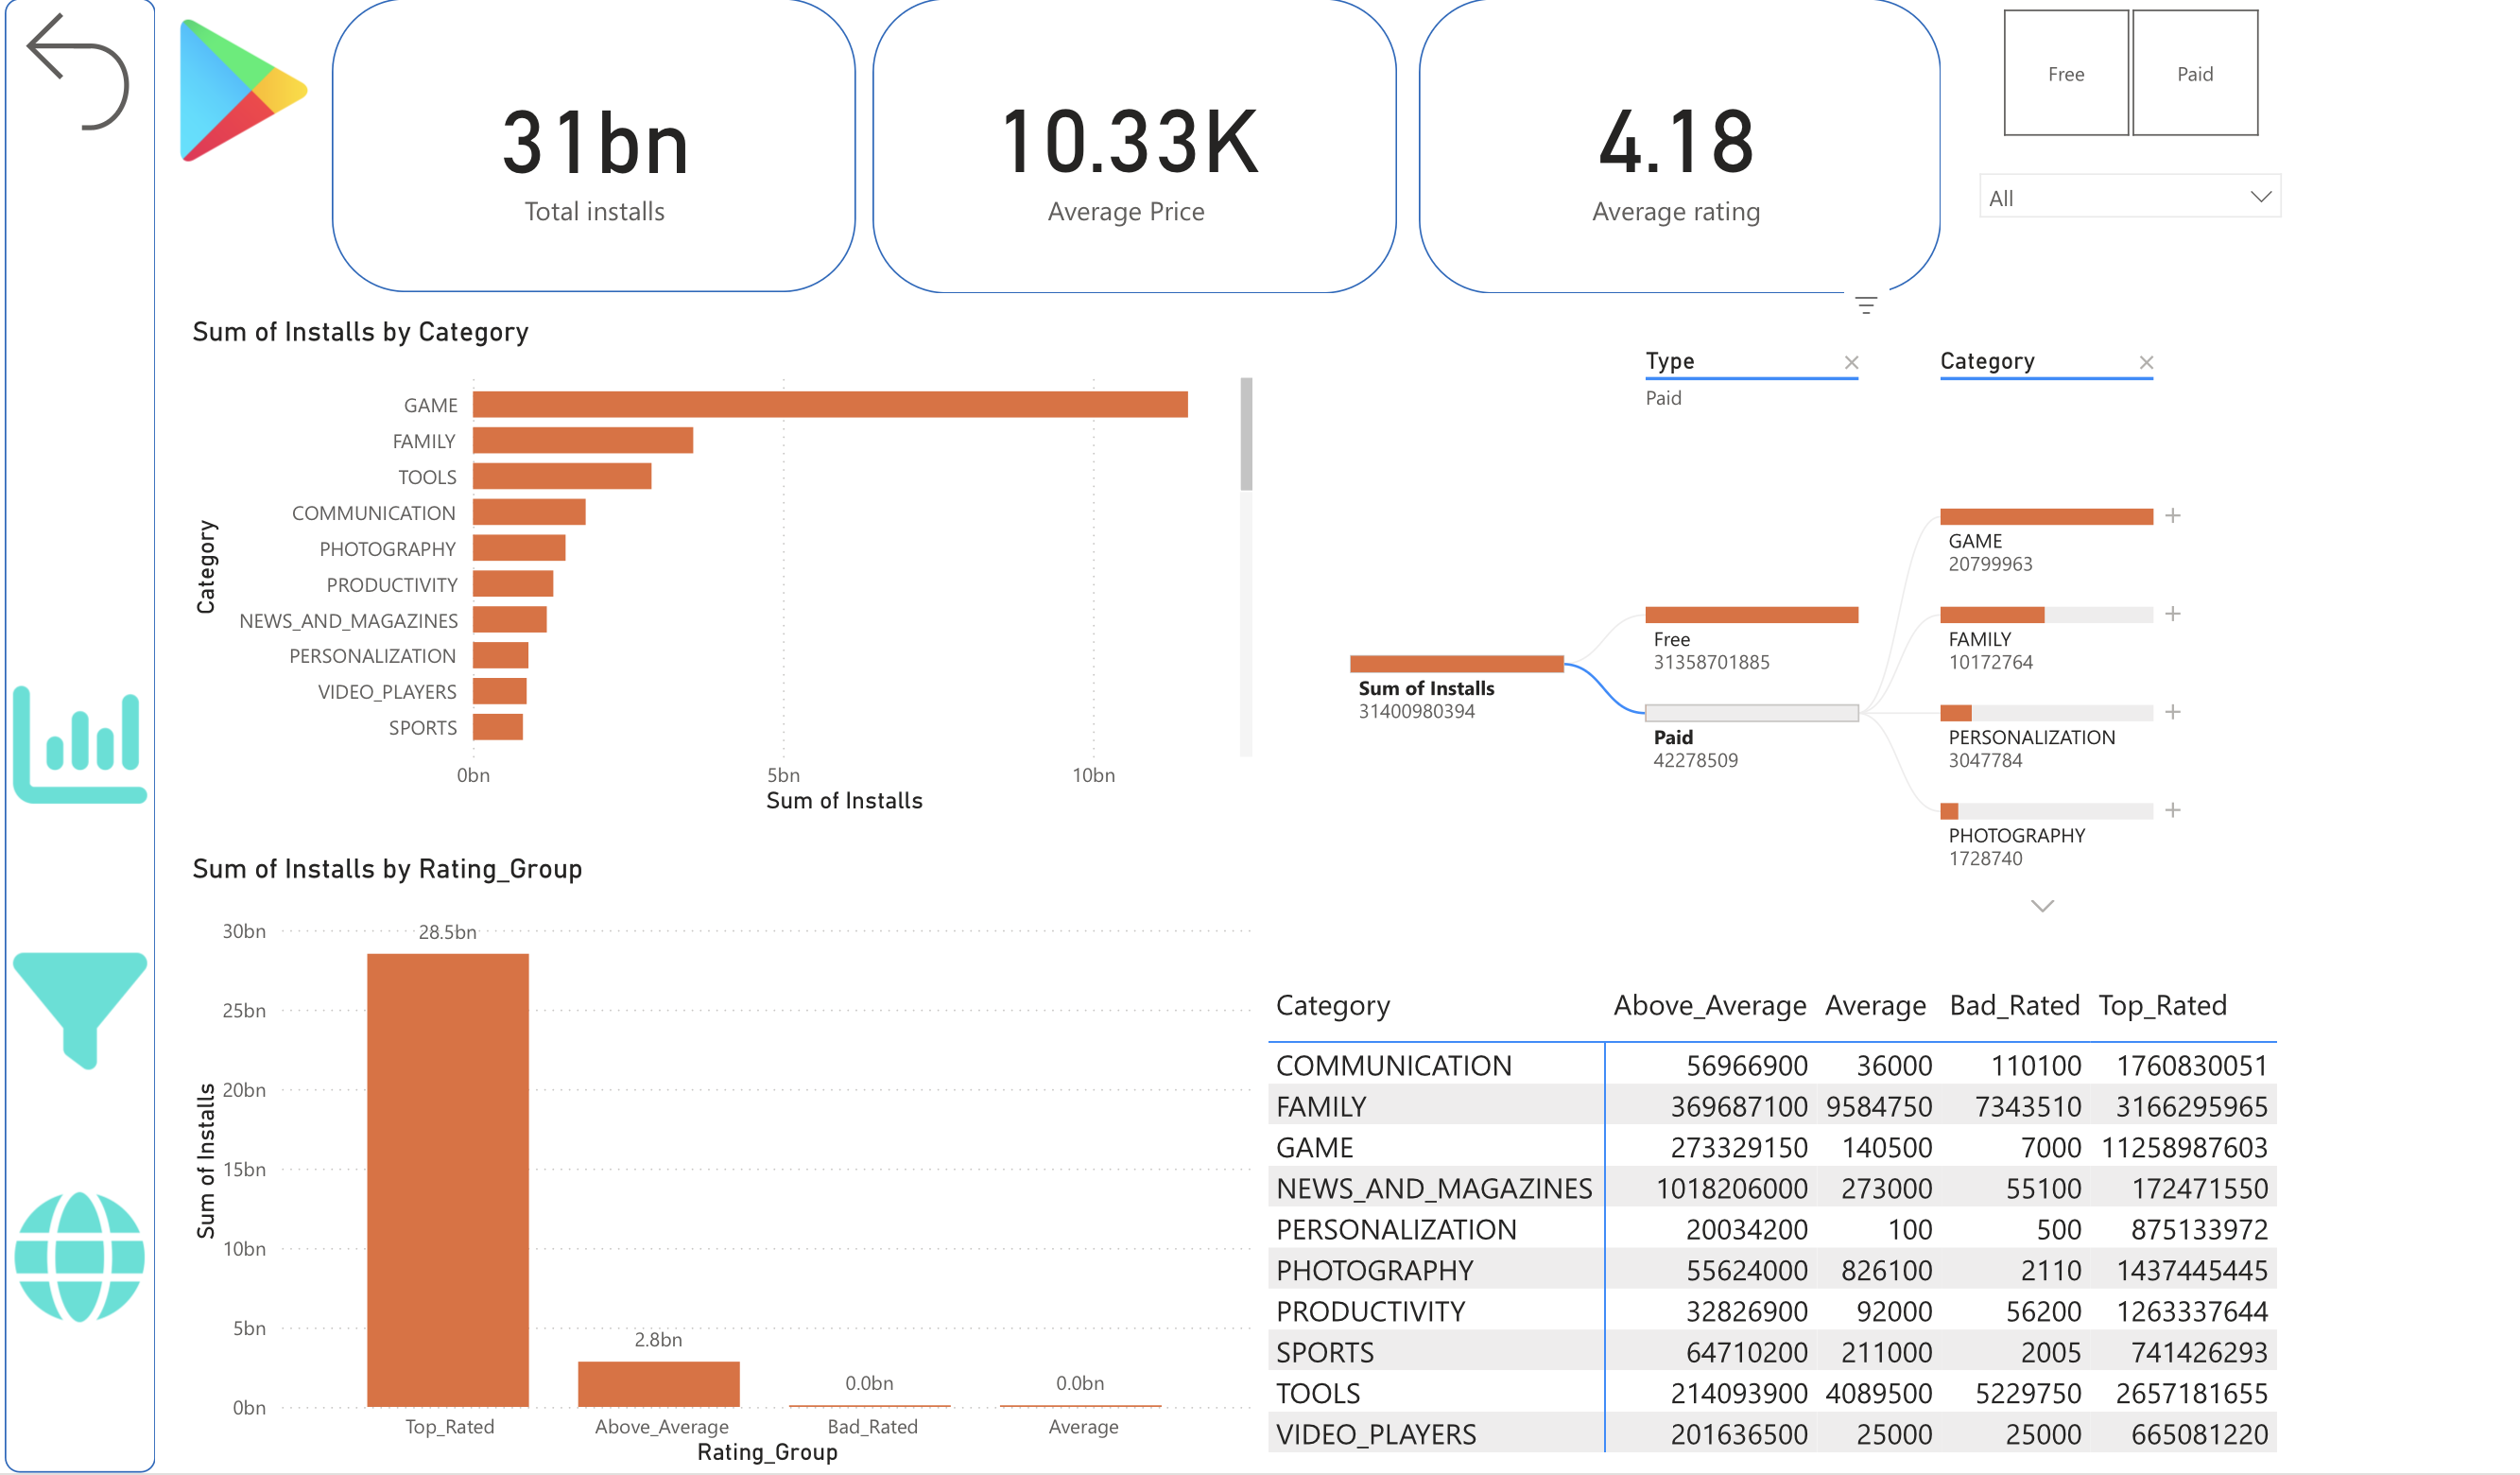

This screenshot's page, from the dashboard's own definition file:
{"tool":"powerbi","page":{"name":"Page 1","canvas":[1400,900],"ordinal":0},"visuals":[{"type":"shape","box":[0,0,92.2,899.8],"z":0},{"type":"shape","box":[199.8,0,320,179.5],"z":1000},{"type":"shape","box":[530.1,0,320.3,180.4],"z":2000},{"type":"shape","box":[862.9,0,318.9,180.4],"z":3000},{"type":"card","fields":{"Values":["Measure Table.Total installs"]},"box":[231,7.8,260.7,165.5],"z":4000},{"type":"card","fields":{"Values":["Measure Table.Average Price"]},"box":[555.2,8.4,260.1,165],"z":5000},{"type":"card","fields":{"Values":["Measure Table.Average rating"]},"box":[890.9,8.4,260.1,165],"z":6000},{"type":"barChart","fields":{"Category":["ps_data.Category"],"Y":["Sum(ps_data.Installs)"]},"box":[109.3,196.3,657.3,305.6],"z":7000},{"type":"decompositionTreeVisual","fields":{"Analyze":["Sum(ps_data.Installs)"],"ExplainBy":["ps_data.Type","ps_data.Category","ps_data.Rating_Group"]},"box":[791.6,196.6,608.4,398.3],"z":8000},{"type":"columnChart","fields":{"Category":["ps_data.Rating_Group"],"Y":["Sum(ps_data.Installs)"]},"box":[109.3,524.1,657.3,375.6],"z":9000},{"type":"pivotTable","fields":{"Rows":["ps_data.Category"],"Columns":["ps_data.Rating_Group"],"Values":["Sum(ps_data.Installs)"]},"box":[766.4,595,633.6,304.2],"z":10000},{"type":"slicer","fields":{"Values":["ps_data.Type"]},"box":[1194.4,0,205.6,90.9],"z":11000},{"type":"slicer","fields":{"Values":["ps_data.Rating_Group"]},"box":[1195.1,97.3,204.9,63.2],"z":11001},{"type":"image","box":[92.2,8.4,107.6,96.4],"z":11002},{"type":"actionButton","box":[0,0,92.2,89.4],"z":11003},{"type":"image","box":[0,577.2,92.2,82.5],"z":11004},{"type":"image","box":[0,723.9,92.2,89.4],"z":11005},{"type":"image","box":[0,409.5,92.2,92.2],"z":11006}]}

Visuals, with their boxes on the page's 1400x900 design canvas (x1, y1, x2, y2). These are canvas units, not pixel positions in the 2520x1475 screenshot, which may show the page scaled, cropped or inside an application window:
shape: (0, 0, 92, 900)
shape: (200, 0, 520, 180)
shape: (530, 0, 850, 180)
shape: (863, 0, 1182, 180)
card - Measure Table.Total installs: (231, 8, 492, 173)
card - Measure Table.Average Price: (555, 8, 815, 173)
card - Measure Table.Average rating: (891, 8, 1151, 173)
barChart - ps_data.Category x Sum(ps_data.Installs): (109, 196, 767, 502)
decompositionTreeVisual - Sum(ps_data.Installs) x ps_data.Type: (792, 197, 1400, 595)
columnChart - ps_data.Rating_Group x Sum(ps_data.Installs): (109, 524, 767, 900)
pivotTable - ps_data.Category x ps_data.Rating_Group: (766, 595, 1400, 899)
slicer - ps_data.Type: (1194, 0, 1400, 91)
slicer - ps_data.Rating_Group: (1195, 97, 1400, 160)
image: (92, 8, 200, 105)
actionButton: (0, 0, 92, 89)
image: (0, 577, 92, 660)
image: (0, 724, 92, 813)
image: (0, 410, 92, 502)
